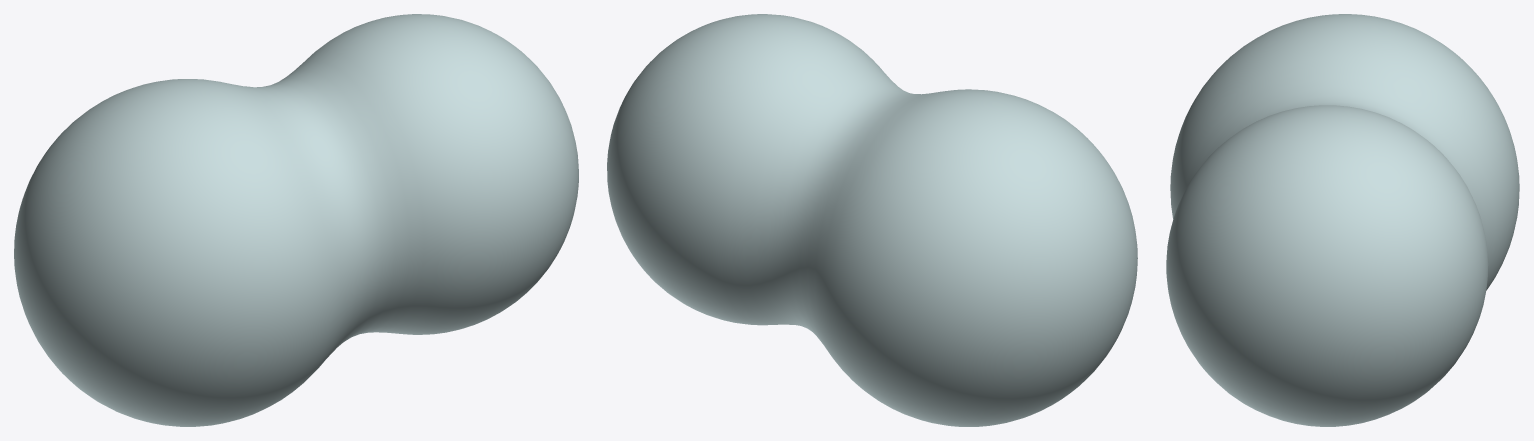
3 renders of one model, left to right at view 1: azimuth 30°, elevation 25°; view 2: azimuth 150°, elevation 25°; view 3: azimuth 270°, elevation 25°, orthographic. The views are drawn at different scales.
Visible parts, largest first — view 1: coalesced-liquid; view 2: coalesced-liquid; view 3: coalesced-liquid.
Part boxes in pixels (x1,y1,x2,y2): coalesced-liquid: (14, 14, 578, 426); coalesced-liquid: (607, 14, 1137, 426); coalesced-liquid: (1166, 14, 1519, 426).
Size of the model in its own units: 2.17 by 1.35 by 1.29.
